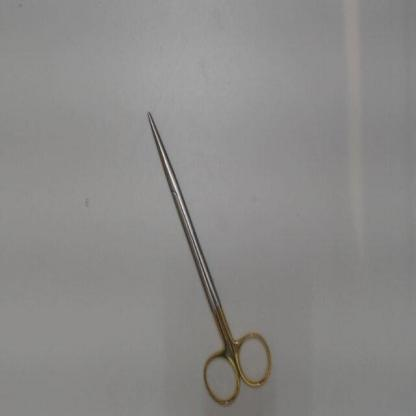7 Metzenbaum Scissors: (146, 111, 274, 408)
